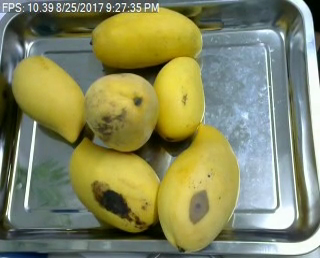Mango: (156, 123, 241, 252), (68, 137, 164, 231), (89, 6, 202, 69), (12, 56, 87, 142), (84, 72, 158, 151), (152, 55, 205, 141)
